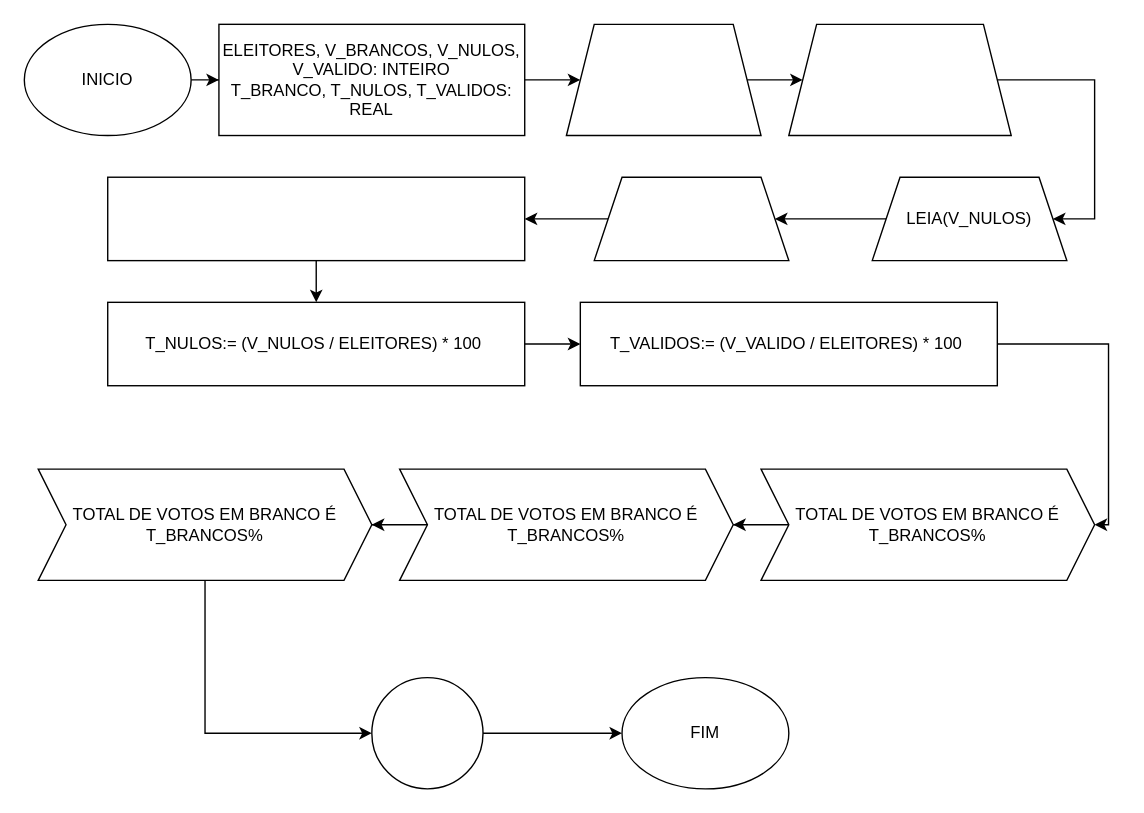
The diagram is 1144 pixels wide and 813 high, and some of its shapes have lost their labels. The shapes that lost their labels are listed below. From the top down, each one's centre as x and y in pixels, then its label:
pixel 663 79: LEIA(ELEITORES)
pixel 899 79: LEIA(V_BRANCOS)
pixel 315 218: T_BRANCO:= (V_BRANCOS / ELEITORES) * 100
pixel 691 218: LEIA(V_VALIDO)
